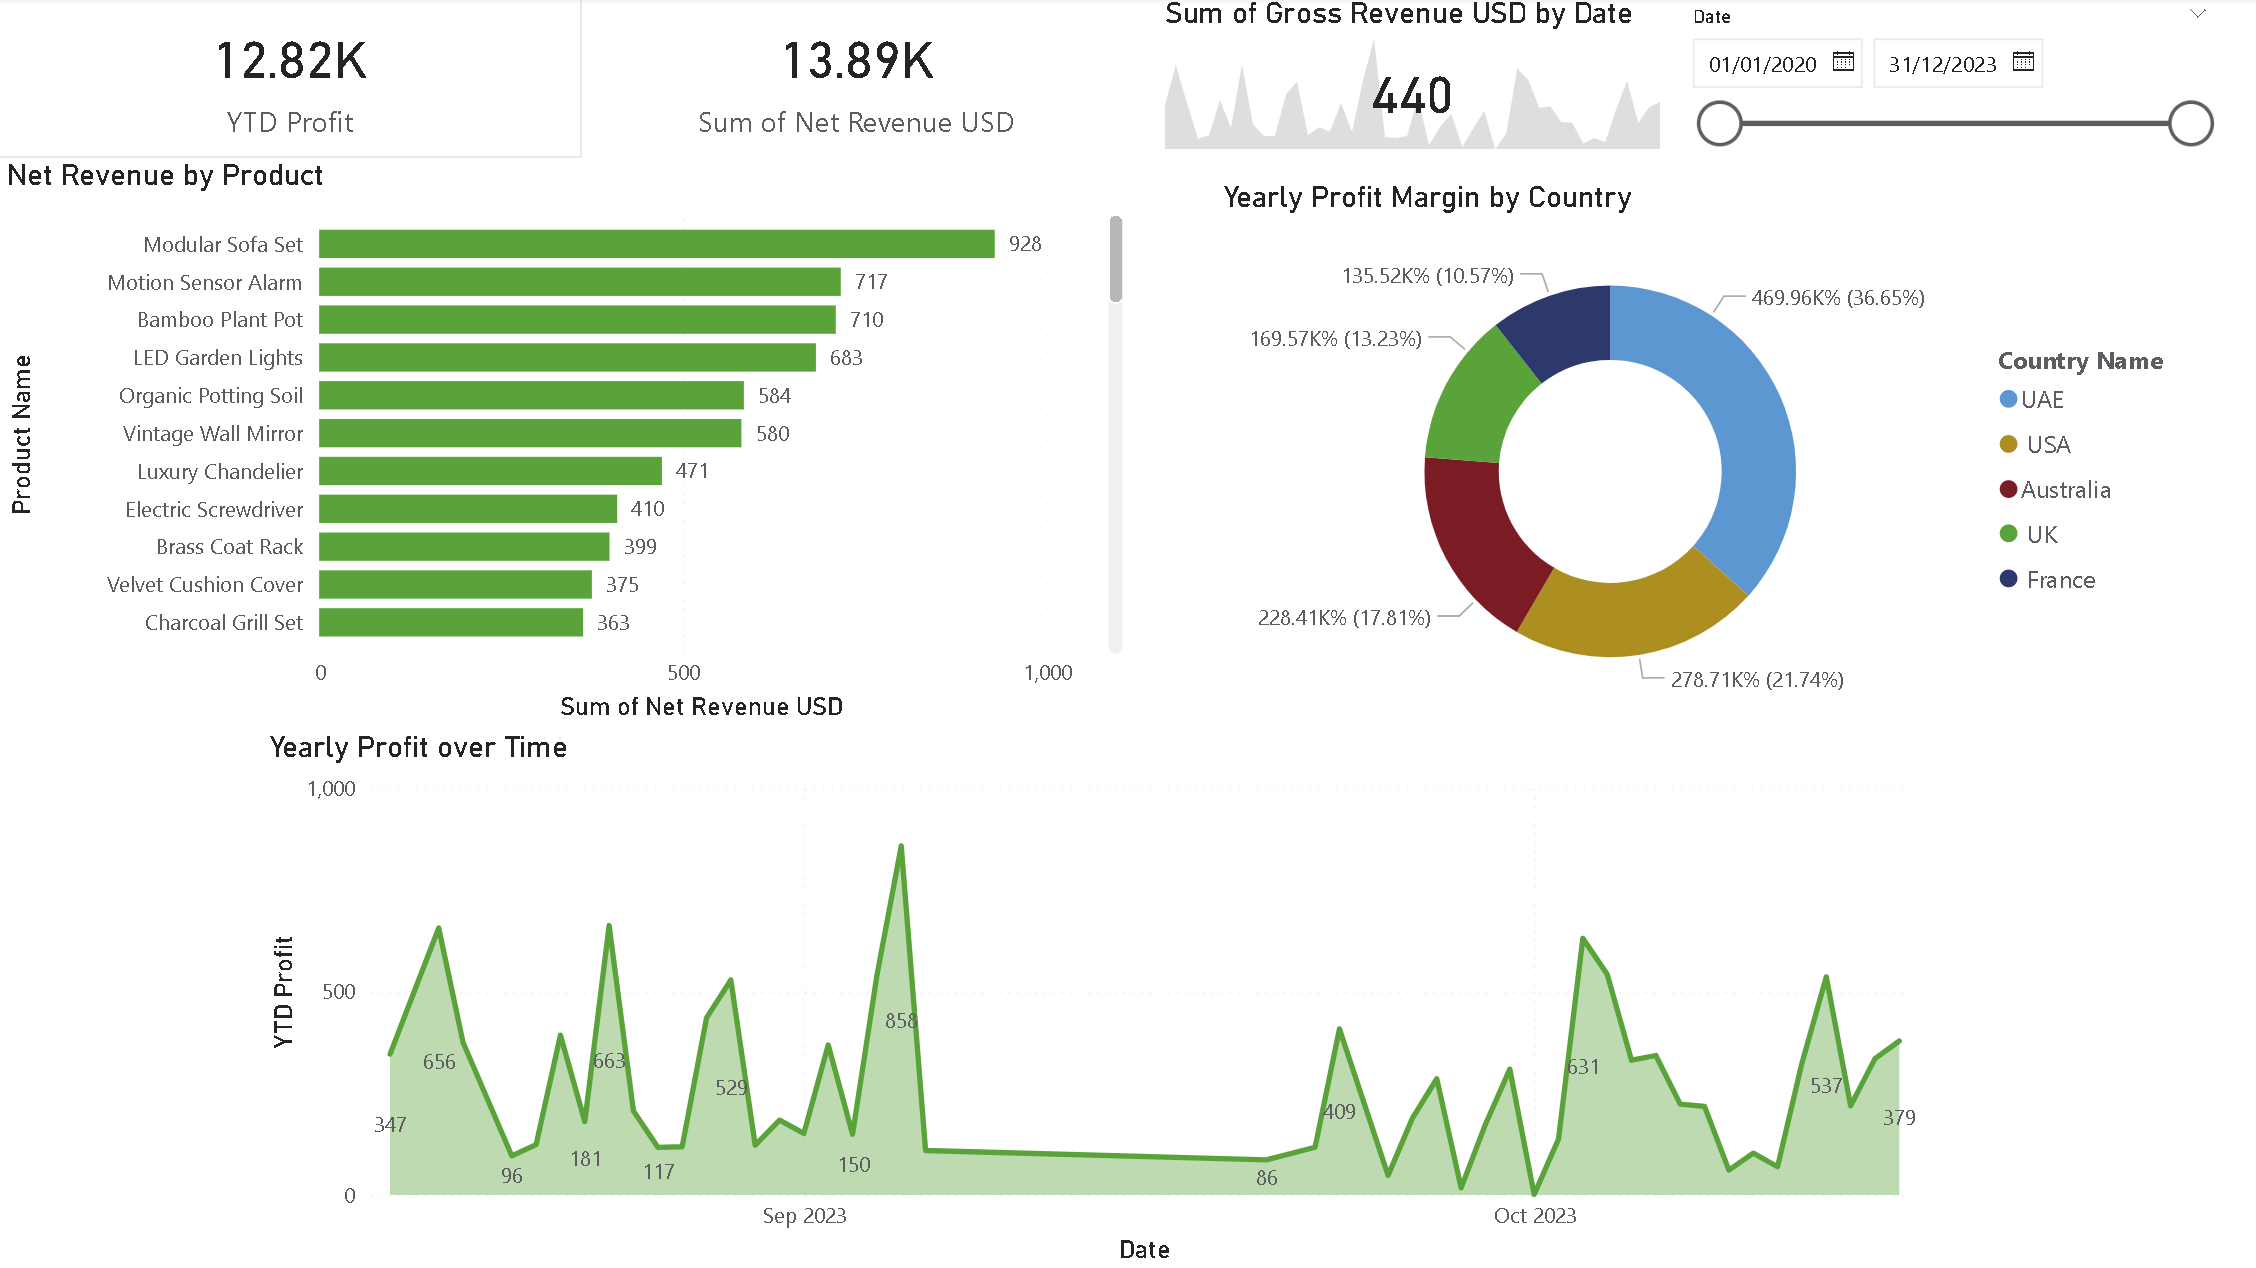

The page's visual inventory and layout, read from the dashboard file:
{"tool":"powerbi","page":{"name":"Profit Overview","canvas":[1280,720],"ordinal":1},"visuals":[{"type":"clusteredBarChart","title":"Net Revenue by Product","fields":{"Category":["Sales_in_USD.Product Name"],"Y":["Sum(Sales_in_USD.Net Revenue USD)"]},"box":[0,91.7,640.7,322.6],"z":0},{"type":"donutChart","title":"Yearly Profit Margin by Country","fields":{"Category":["Sales_in_USD.Country Name"],"Y":["Sales_in_USD.YTD Profit"]},"box":[686.7,104.4,554.8,310.4],"z":1000},{"type":"stackedAreaChart","title":"Yearly Profit over Time","fields":{"Category":["Sales_in_USD.Date"],"Y":["Sales_in_USD.YTD Profit"]},"box":[148,414.3,954.5,306.3],"z":2000},{"type":"card","fields":{"Values":["Sales_in_USD.YTD Profit"]},"box":[0,0,330,91.7],"z":3000},{"type":"card","fields":{"Values":["Sum(Sales_in_USD.Net Revenue USD)"]},"box":[330,0,310.8,91.7],"z":4000},{"type":"kpi","fields":{"Indicator":["Sum(Sales_in_USD.Gross Revenue USD)"],"TrendLine":["Sales_in_USD.Date"]},"box":[654.1,0,290,91.7],"z":5000},{"type":"slicer","fields":{"Values":["CalendarTable.Date"]},"box":[944.9,0,315.9,104.4],"z":6000}]}

Visuals, with their boxes in screenshot pixels (x1, y1, x2, y2), scaled from the page's 1280x720 canvas onto the 2256x1268 screenshot:
"Net Revenue by Product" clusteredBarChart: (left=0, top=161, right=1129, bottom=730)
"Yearly Profit Margin by Country" donutChart: (left=1210, top=184, right=2188, bottom=731)
"Yearly Profit over Time" stackedAreaChart: (left=261, top=730, right=1943, bottom=1267)
card - Sales_in_USD.YTD Profit: (left=0, top=0, right=582, bottom=161)
card - Sum(Sales_in_USD.Net Revenue USD): (left=582, top=0, right=1129, bottom=161)
kpi - Sum(Sales_in_USD.Gross Revenue USD) x Sales_in_USD.Date: (left=1153, top=0, right=1664, bottom=161)
slicer - CalendarTable.Date: (left=1665, top=0, right=2222, bottom=184)
